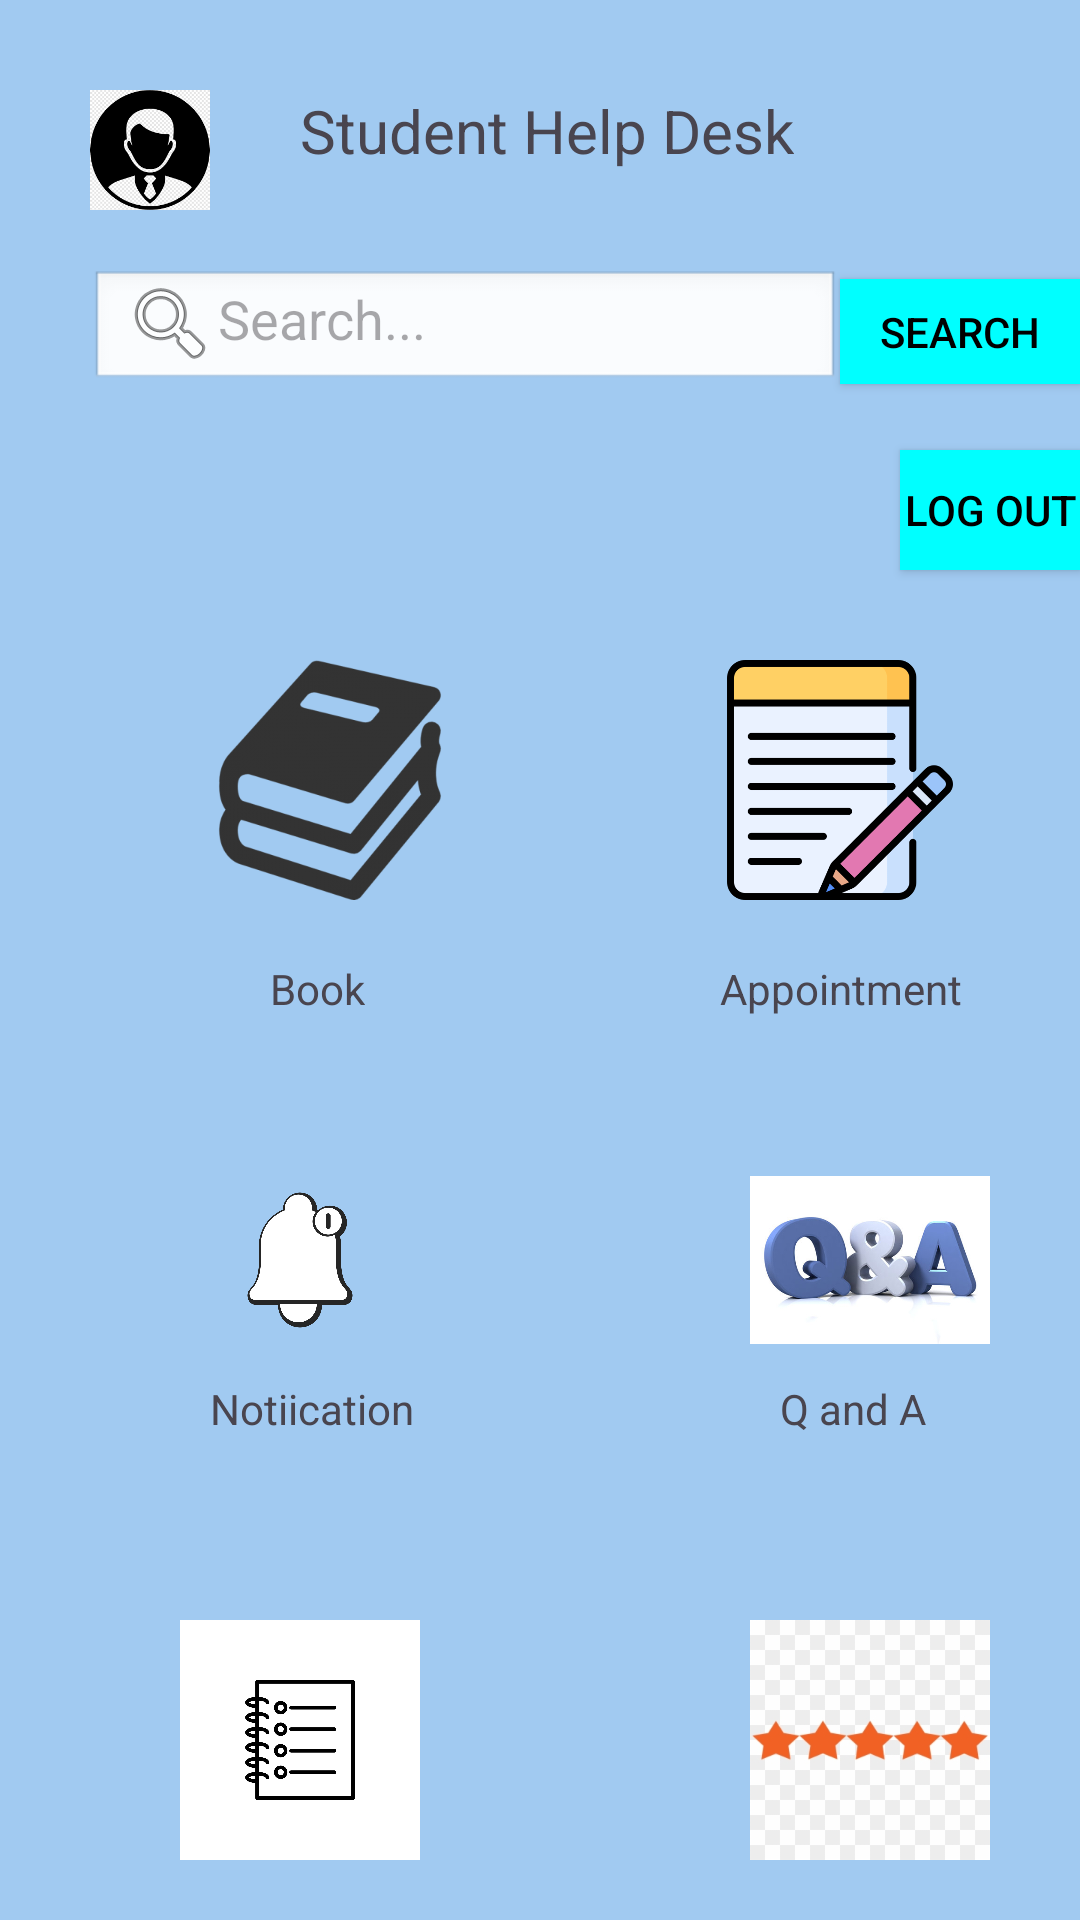

Icons on this 1080px×1920px Android screen, each with the point to tap as (x=x, y=y):
notification: (x=300, y=1260)
profile: (x=150, y=150)
